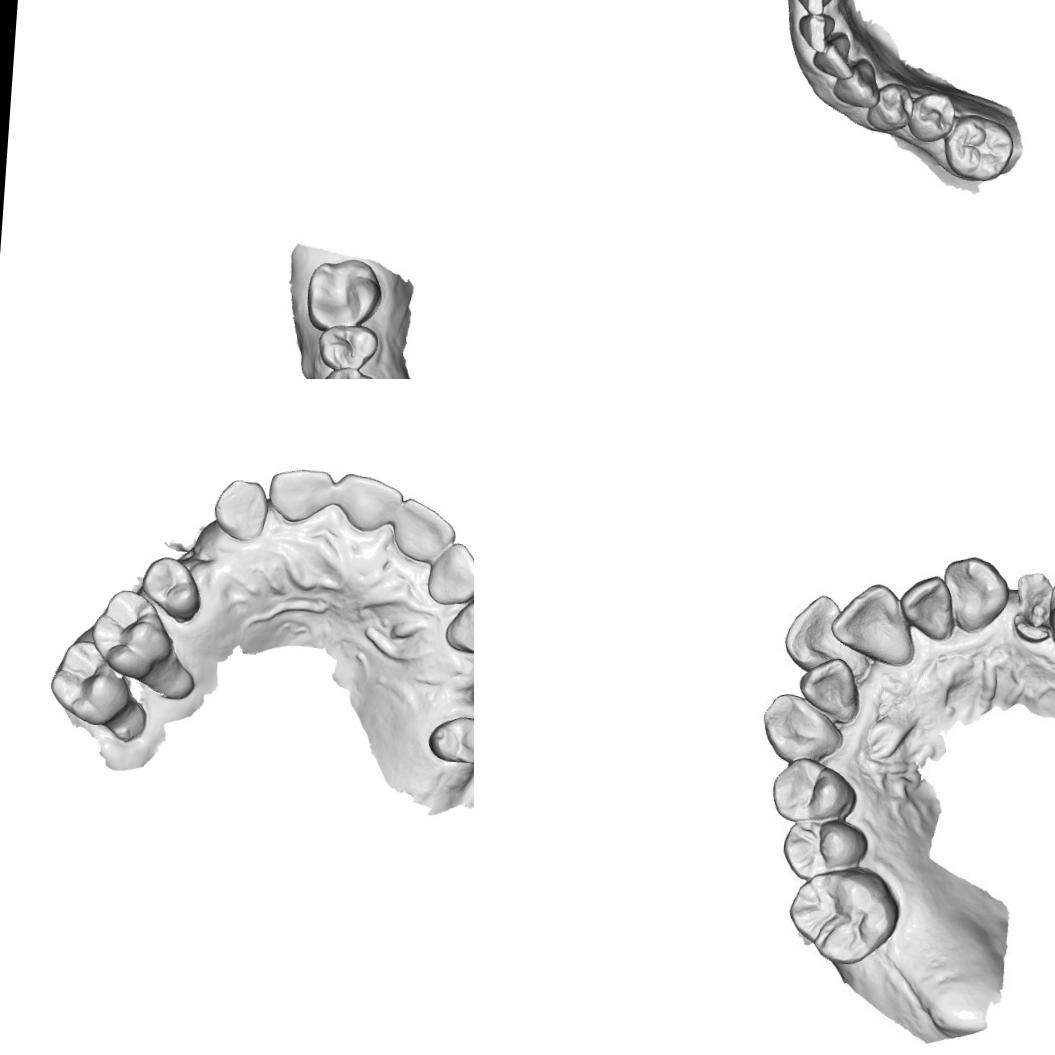canine: (758, 687, 842, 763), (940, 556, 1012, 636), (210, 476, 270, 542), (830, 55, 882, 109), (442, 594, 474, 656)
incisor: (835, 586, 916, 660), (387, 494, 460, 567), (334, 470, 406, 536), (264, 464, 336, 526), (785, 594, 848, 664), (803, 656, 861, 724), (423, 537, 474, 608), (905, 578, 958, 644), (810, 29, 856, 80), (794, 8, 836, 54), (793, 0, 836, 18)
molar: (787, 867, 899, 968), (85, 585, 177, 683), (46, 637, 136, 730), (302, 253, 386, 334), (781, 812, 867, 884), (940, 110, 1016, 184)
premolar: (773, 759, 853, 824), (136, 553, 204, 622), (314, 321, 382, 374), (864, 78, 916, 134), (423, 711, 474, 768), (906, 88, 956, 144), (1037, 568, 1055, 661), (314, 363, 385, 379)
